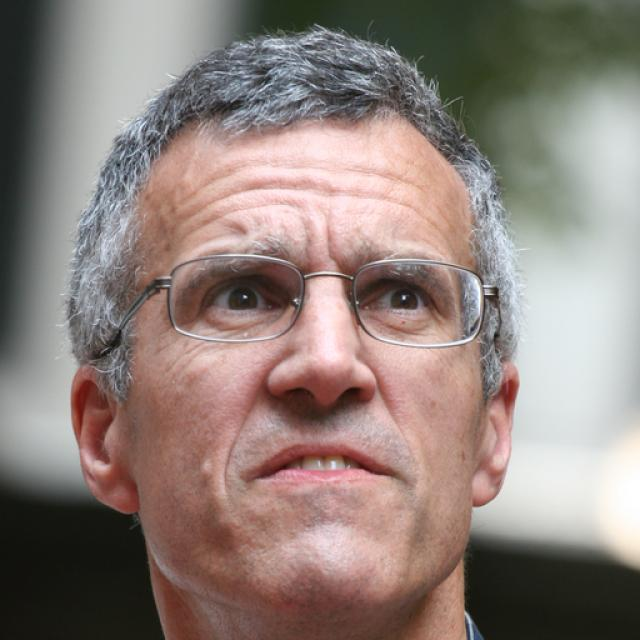Wrinkle: (163, 172, 448, 239), (175, 157, 438, 207), (376, 368, 417, 473), (221, 382, 259, 491)
